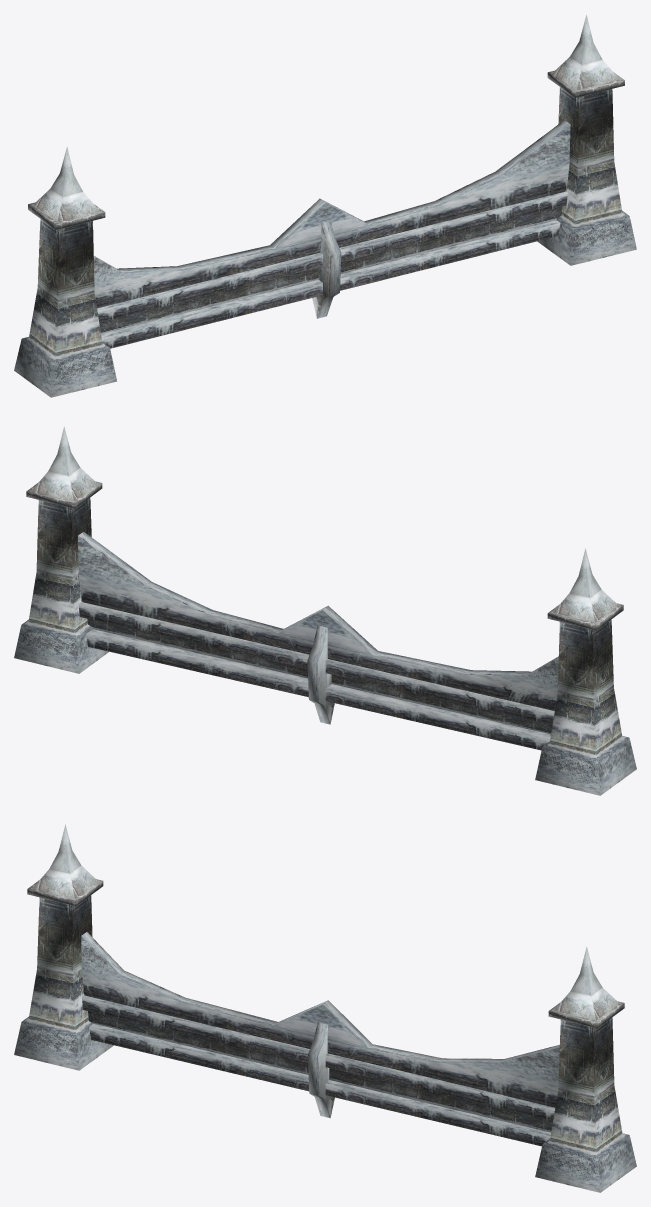
File: S_Build_Snowland172_A.FBX
3 renders of one model, top to bottom at view 1: azimuth 30°, elevation 25°; view 2: azimuth 150°, elevation 25°; view 3: azimuth 330°, elevation 25°, orthographic.
Parts seen in each view (by area): view 1: S_Build_Snowland172_A; view 2: S_Build_Snowland172_A; view 3: S_Build_Snowland172_A.
Boxes of the visible parts, <box> form: S_Build_Snowland172_A: <box>14,15,636,397</box>; S_Build_Snowland172_A: <box>14,426,636,795</box>; S_Build_Snowland172_A: <box>14,824,636,1192</box>.
Bounding box in the file's own units: 1148 × 442 × 143.
